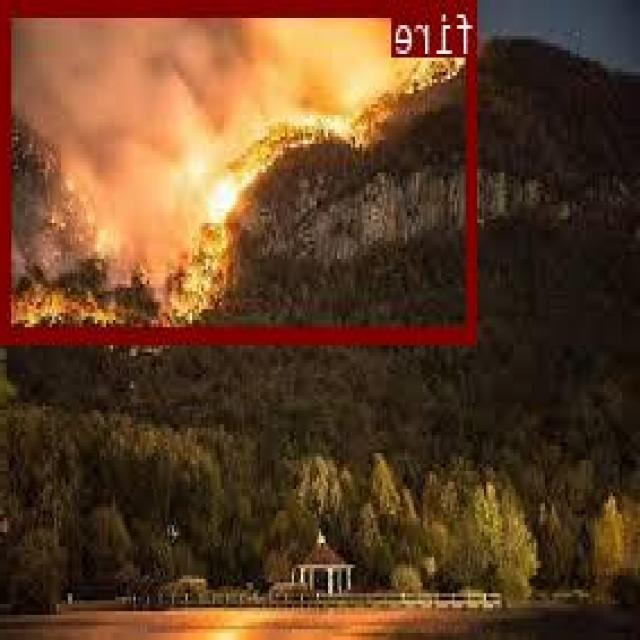fire: (4, 0, 480, 338)
